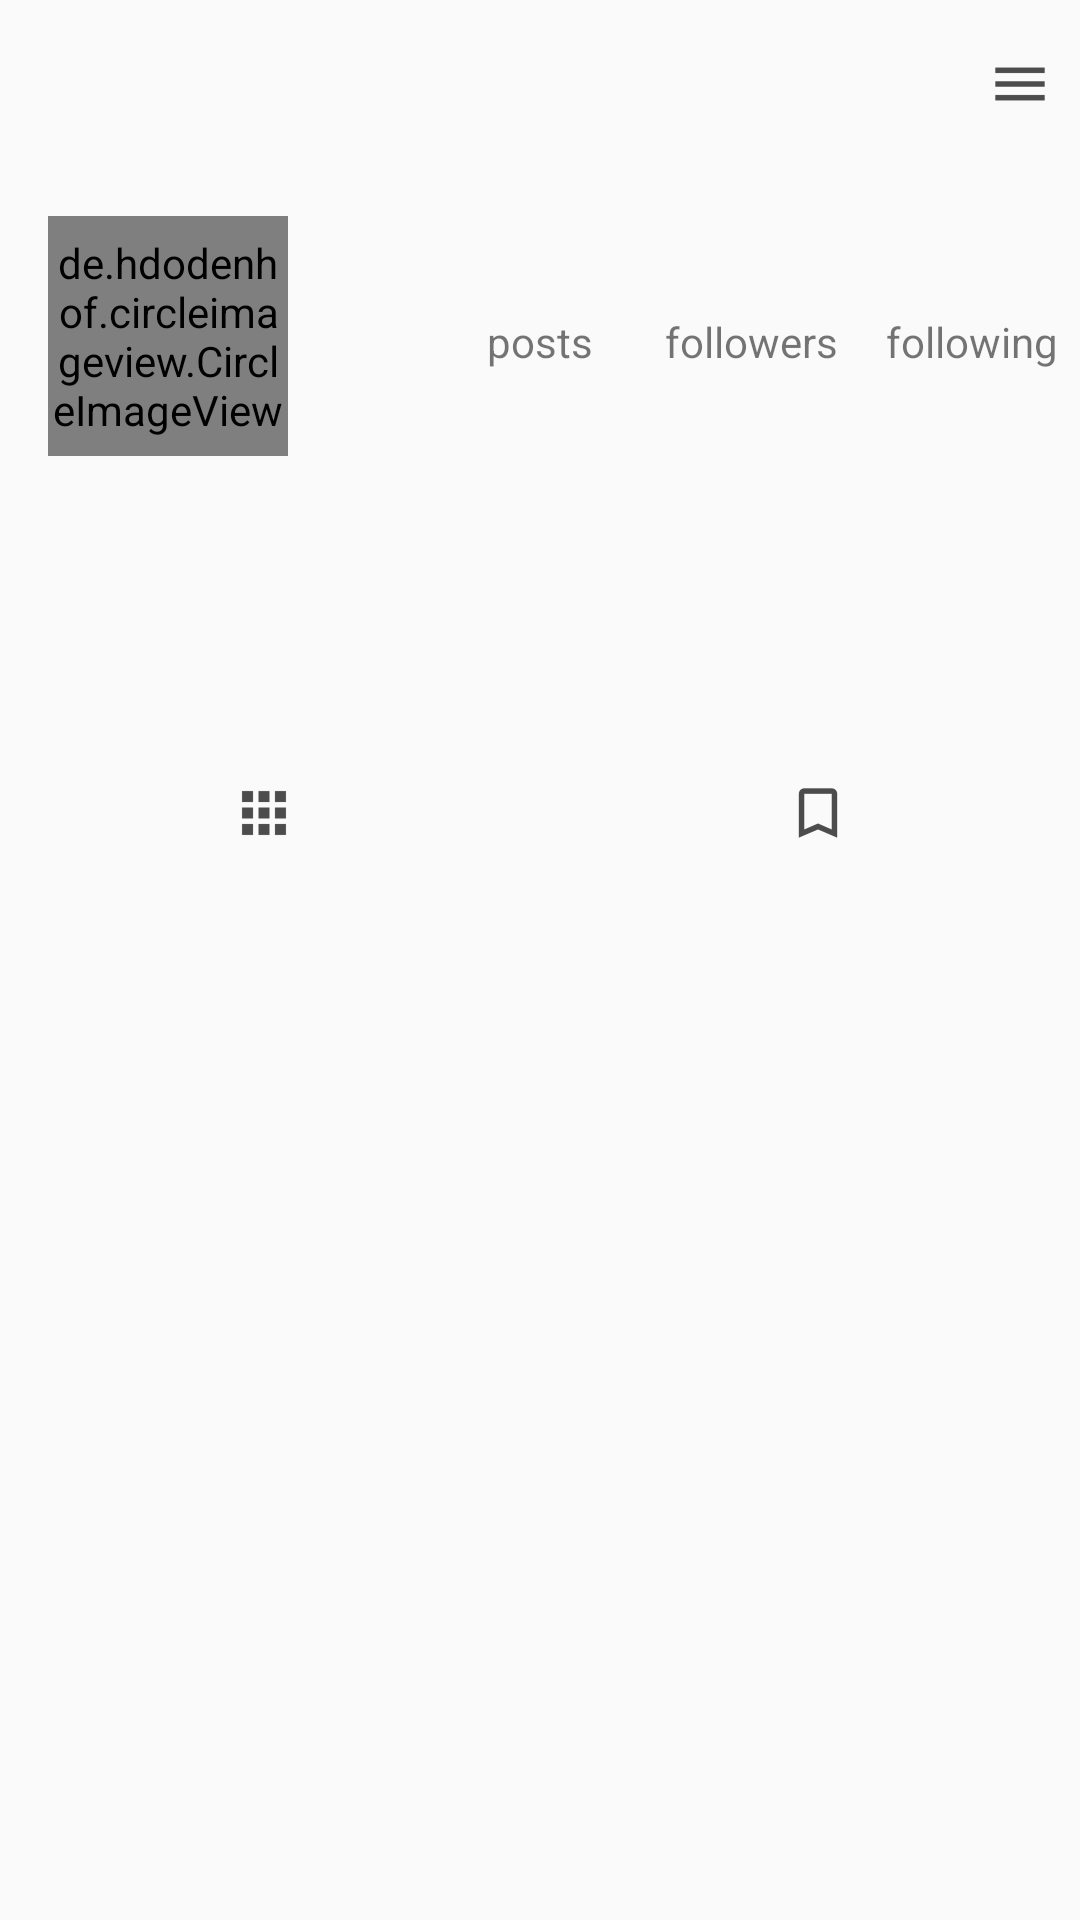

Locate icon controls on the screen. Image size 1080 x 1920, boxes as [x1, y1, x2, y2].
grid: [242, 791, 286, 835]
options: [995, 67, 1045, 101]
save: [798, 788, 838, 838]
